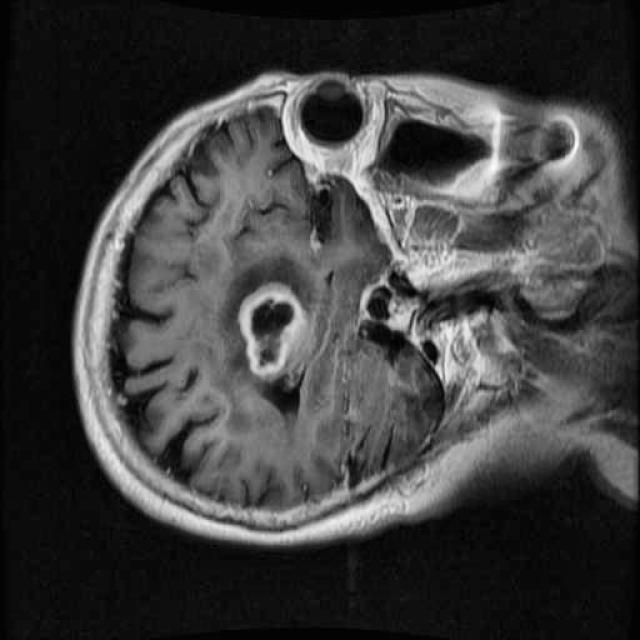Tumor: (212, 260, 346, 400)
